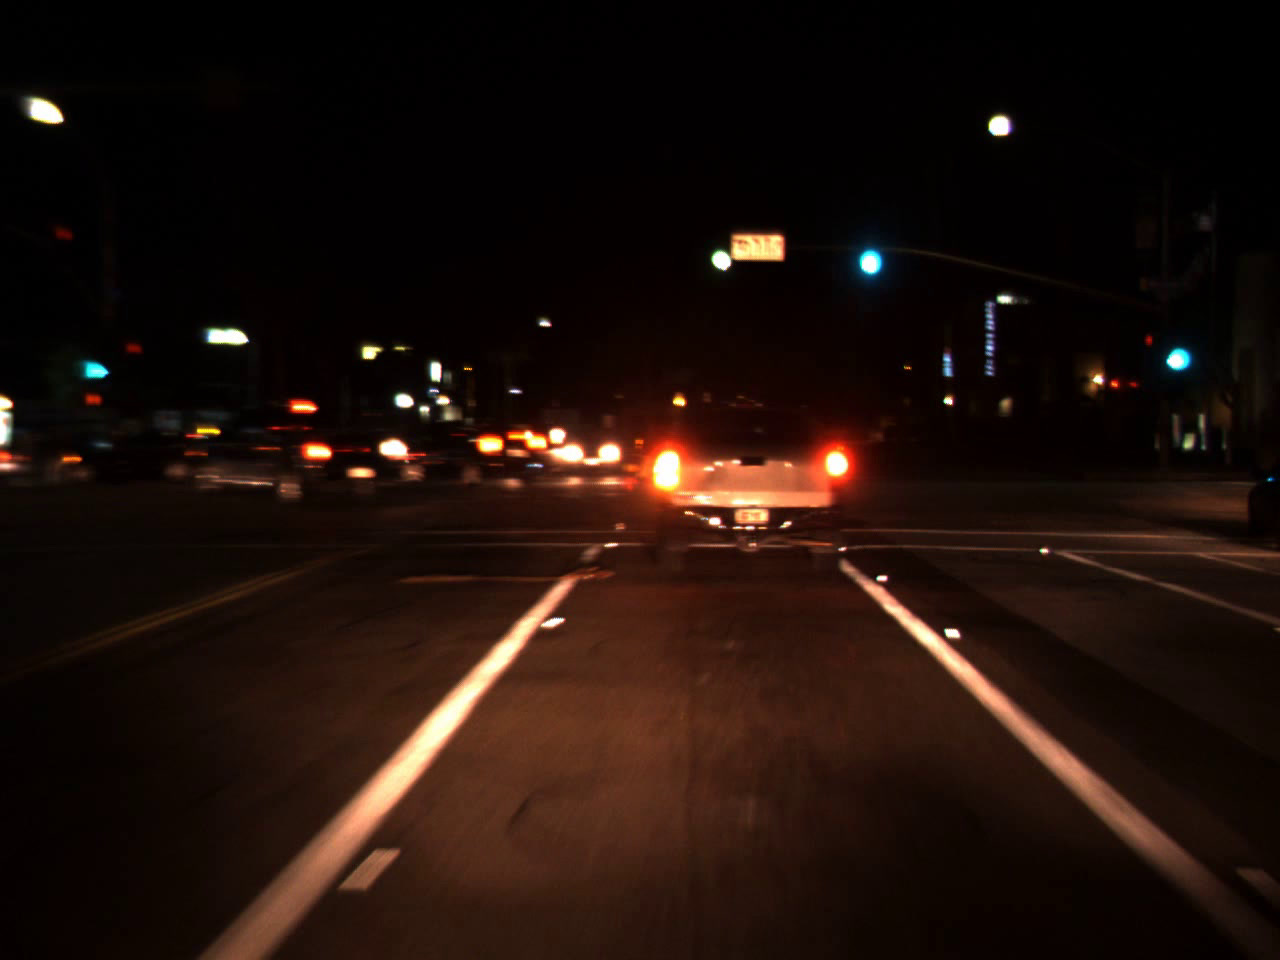go: (849, 219, 886, 282), (1157, 324, 1193, 378), (699, 229, 736, 277), (77, 344, 111, 383)
